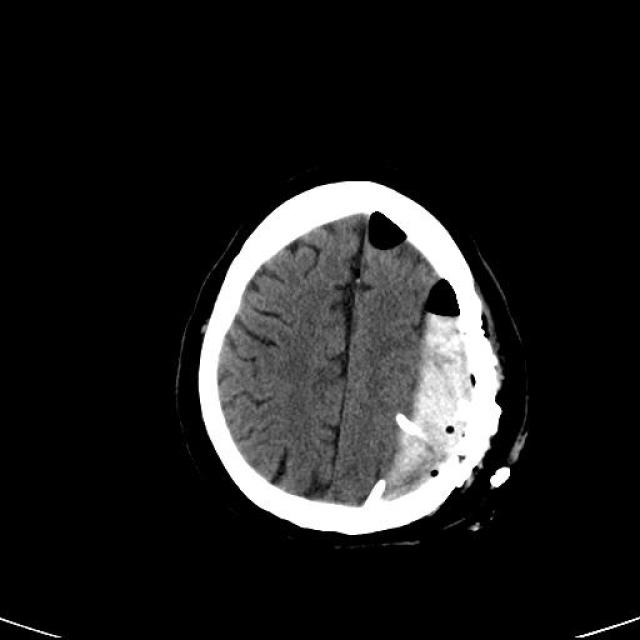Subdural: (386, 269, 496, 519)
